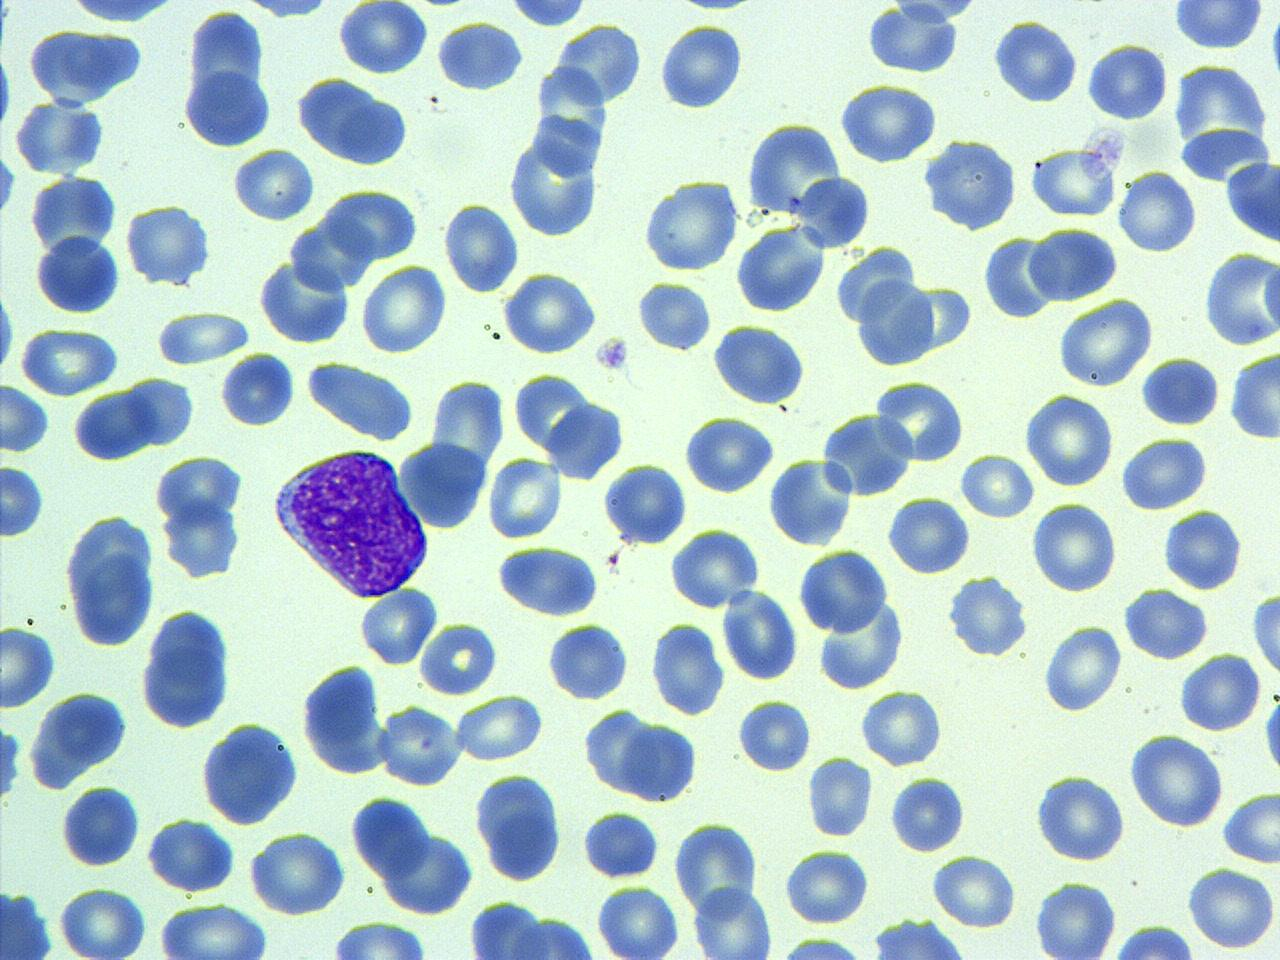Platelets: (636, 277, 712, 354), (1170, 0, 1264, 53), (0, 727, 23, 802), (0, 286, 18, 376), (593, 332, 631, 372), (0, 46, 15, 133), (0, 152, 18, 218), (674, 0, 748, 15), (1268, 10, 1280, 84), (0, 0, 13, 52)
RBC: (473, 770, 565, 884), (639, 177, 741, 275), (1054, 293, 1154, 392), (302, 358, 418, 441), (1125, 732, 1225, 828), (1022, 390, 1116, 488), (672, 818, 760, 922), (732, 221, 826, 316), (245, 830, 348, 916), (1032, 772, 1128, 864), (1027, 499, 1119, 595), (500, 268, 601, 355), (834, 81, 940, 162), (797, 544, 890, 637), (820, 406, 912, 501), (398, 438, 490, 532), (358, 261, 447, 356), (766, 453, 854, 548), (1185, 862, 1277, 952), (656, 20, 745, 113), (872, 378, 967, 465), (990, 15, 1080, 105), (1201, 247, 1279, 350), (1040, 620, 1124, 714), (601, 458, 689, 546), (441, 198, 522, 293), (32, 232, 123, 317), (668, 526, 760, 610), (681, 414, 776, 495), (16, 325, 122, 396), (1025, 225, 1121, 304), (884, 492, 974, 576), (321, 187, 422, 260), (650, 618, 726, 717), (378, 703, 465, 788), (1115, 167, 1199, 254), (1178, 648, 1262, 736), (145, 816, 241, 892), (722, 586, 798, 682), (858, 686, 946, 768), (545, 618, 632, 702), (335, 1, 432, 75), (1160, 506, 1244, 592), (1084, 39, 1170, 123), (1031, 876, 1119, 958), (782, 844, 872, 924), (486, 453, 564, 542), (55, 884, 148, 959), (620, 718, 700, 804), (161, 496, 242, 582), (595, 881, 682, 960), (930, 851, 1018, 930), (1121, 584, 1209, 661), (357, 584, 437, 668), (152, 453, 245, 525), (155, 902, 272, 959), (229, 146, 314, 224), (453, 692, 543, 764), (546, 399, 626, 482), (887, 772, 969, 852), (417, 619, 501, 697), (690, 882, 776, 958), (69, 388, 153, 464), (1030, 146, 1118, 219), (796, 172, 876, 252), (218, 348, 296, 429), (734, 696, 814, 773), (580, 806, 661, 880), (1137, 353, 1221, 426), (333, 93, 412, 168), (636, 276, 714, 351), (806, 752, 874, 838), (154, 307, 251, 366), (125, 372, 200, 448), (959, 450, 1036, 518), (1224, 155, 1280, 248), (1227, 345, 1279, 445), (1, 623, 58, 711), (1221, 787, 1280, 865), (330, 918, 435, 960), (1102, 922, 1202, 959), (0, 380, 51, 452), (59, 0, 184, 29), (1244, 247, 1280, 344), (1250, 584, 1280, 681)
WBC: (268, 442, 431, 600), (796, 544, 909, 692), (62, 508, 157, 648), (139, 602, 241, 732), (507, 111, 611, 237), (196, 718, 303, 830), (855, 266, 974, 367), (151, 449, 251, 563), (26, 689, 133, 794), (471, 768, 565, 885), (300, 659, 394, 777), (640, 175, 742, 276), (1127, 730, 1227, 830), (302, 82, 416, 168), (253, 252, 358, 346), (919, 134, 1018, 232), (1055, 293, 1155, 390), (26, 169, 121, 269), (245, 829, 350, 918), (708, 319, 810, 408), (304, 357, 418, 438), (734, 222, 830, 316), (502, 267, 602, 357), (461, 897, 604, 959), (180, 63, 278, 152), (494, 541, 603, 620), (348, 792, 440, 884), (398, 438, 488, 533), (990, 13, 1081, 106), (838, 83, 942, 162), (767, 452, 853, 549), (669, 522, 761, 612), (872, 378, 966, 466), (1184, 863, 1278, 951), (125, 199, 215, 288), (658, 20, 748, 109), (682, 413, 776, 496), (144, 814, 240, 894), (650, 617, 726, 719), (32, 233, 122, 319), (862, 2, 968, 75), (1030, 876, 1122, 960), (1117, 433, 1211, 513), (58, 781, 145, 868), (17, 328, 128, 396), (1202, 248, 1278, 348), (945, 572, 1030, 661), (433, 16, 528, 95), (1178, 649, 1264, 735), (1161, 506, 1245, 594), (545, 618, 630, 704), (378, 704, 466, 787), (1027, 225, 1119, 304), (337, 4, 433, 78), (783, 844, 870, 926), (158, 899, 272, 960), (1121, 586, 1211, 661), (1085, 39, 1169, 120), (232, 149, 315, 227), (548, 398, 625, 483), (622, 720, 698, 803), (1139, 352, 1221, 428), (72, 388, 152, 464), (581, 808, 661, 882), (798, 172, 872, 253), (124, 372, 198, 450), (1169, 1, 1269, 52), (1227, 348, 1280, 444), (1223, 158, 1280, 246), (324, 918, 440, 958), (1222, 788, 1280, 866), (867, 917, 975, 959), (0, 880, 59, 957), (54, 0, 193, 30), (0, 460, 48, 542), (504, 0, 592, 30), (1250, 588, 1280, 676), (772, 934, 872, 960), (1259, 678, 1279, 784)
